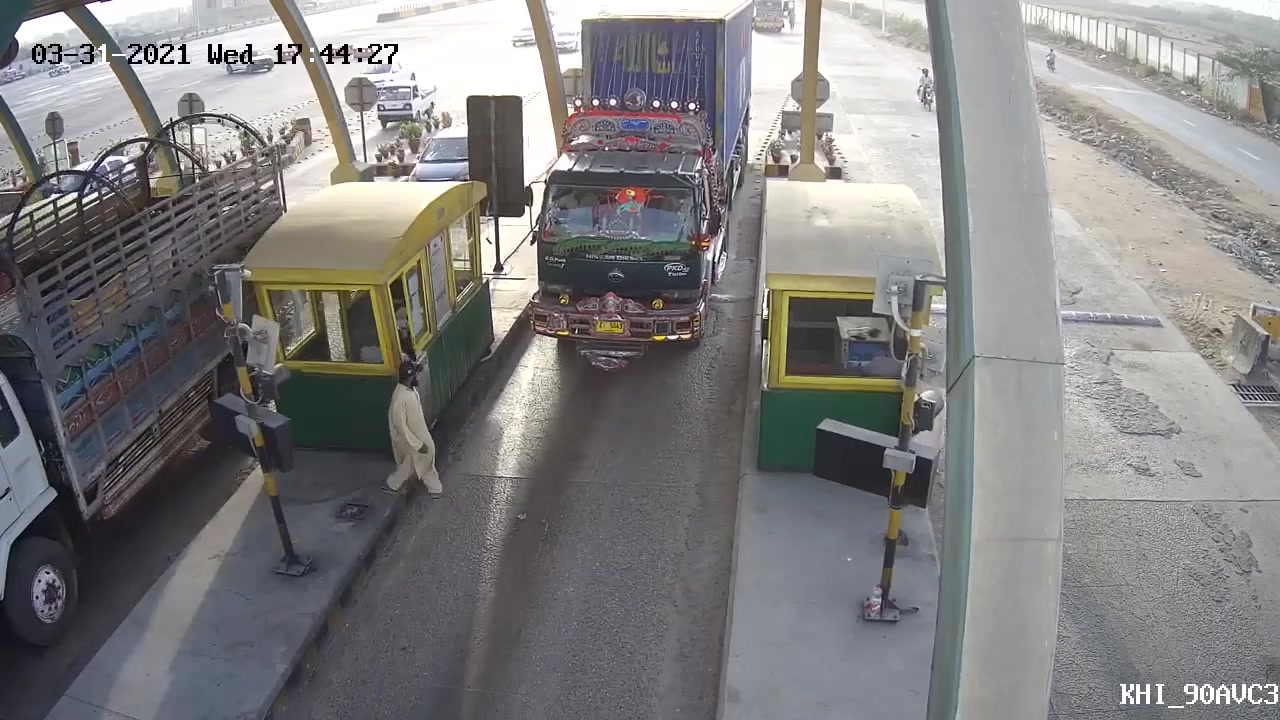F6: (525, 1, 761, 384)
